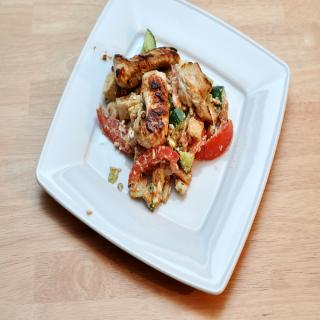Tomato: (192, 120, 234, 161)
